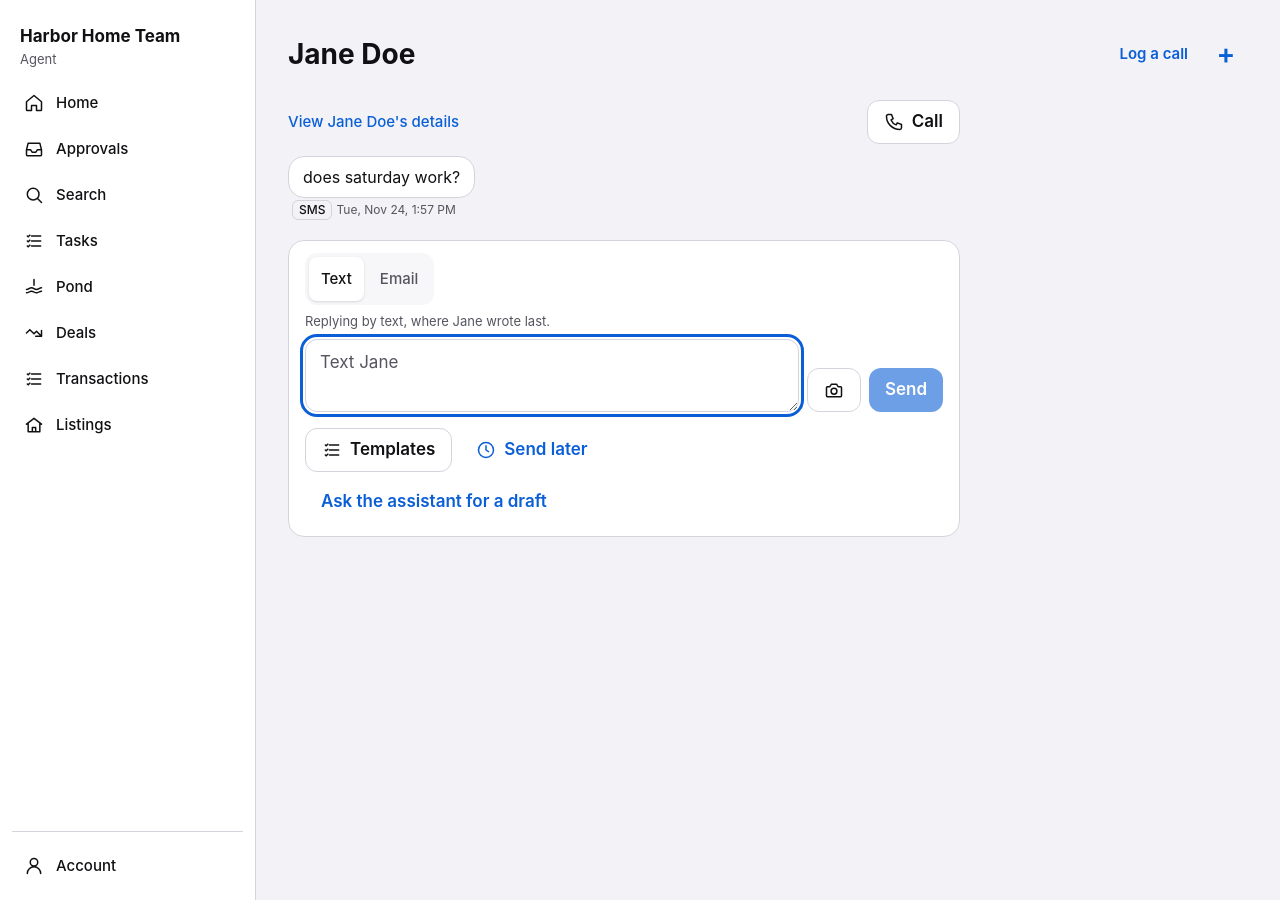
Test case: R-MMS-9 segment counter › R-MMS-9: the counter is for Text only and hidden while the box is empty
In the text box named "Text message": (552, 375) [305, 339, 799, 412], type "Hi"
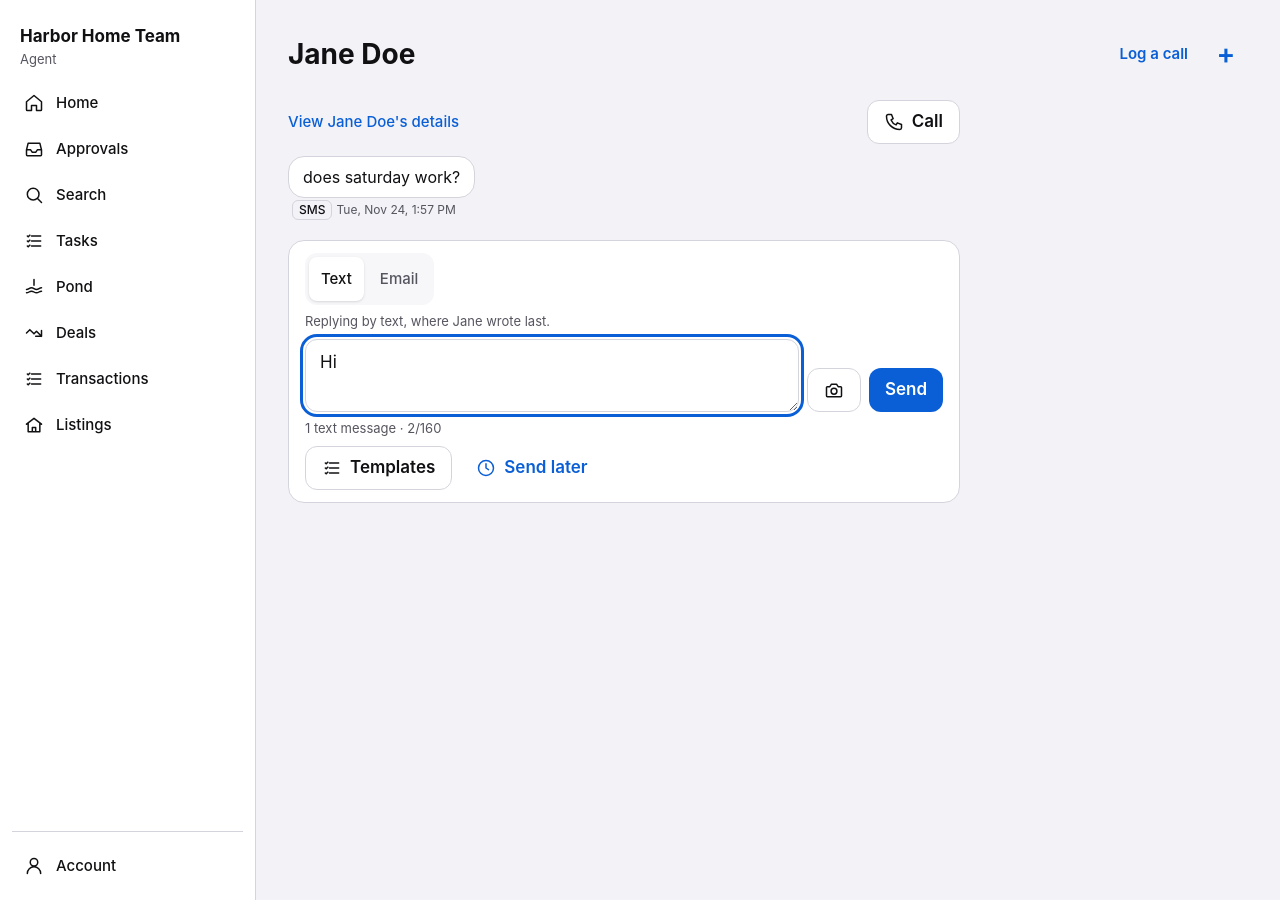
Now the text "1 text message · 2/160" is shown, box [305, 420, 441, 436]
Click the radio button labelled "Email": (399, 279) [368, 257, 430, 301]
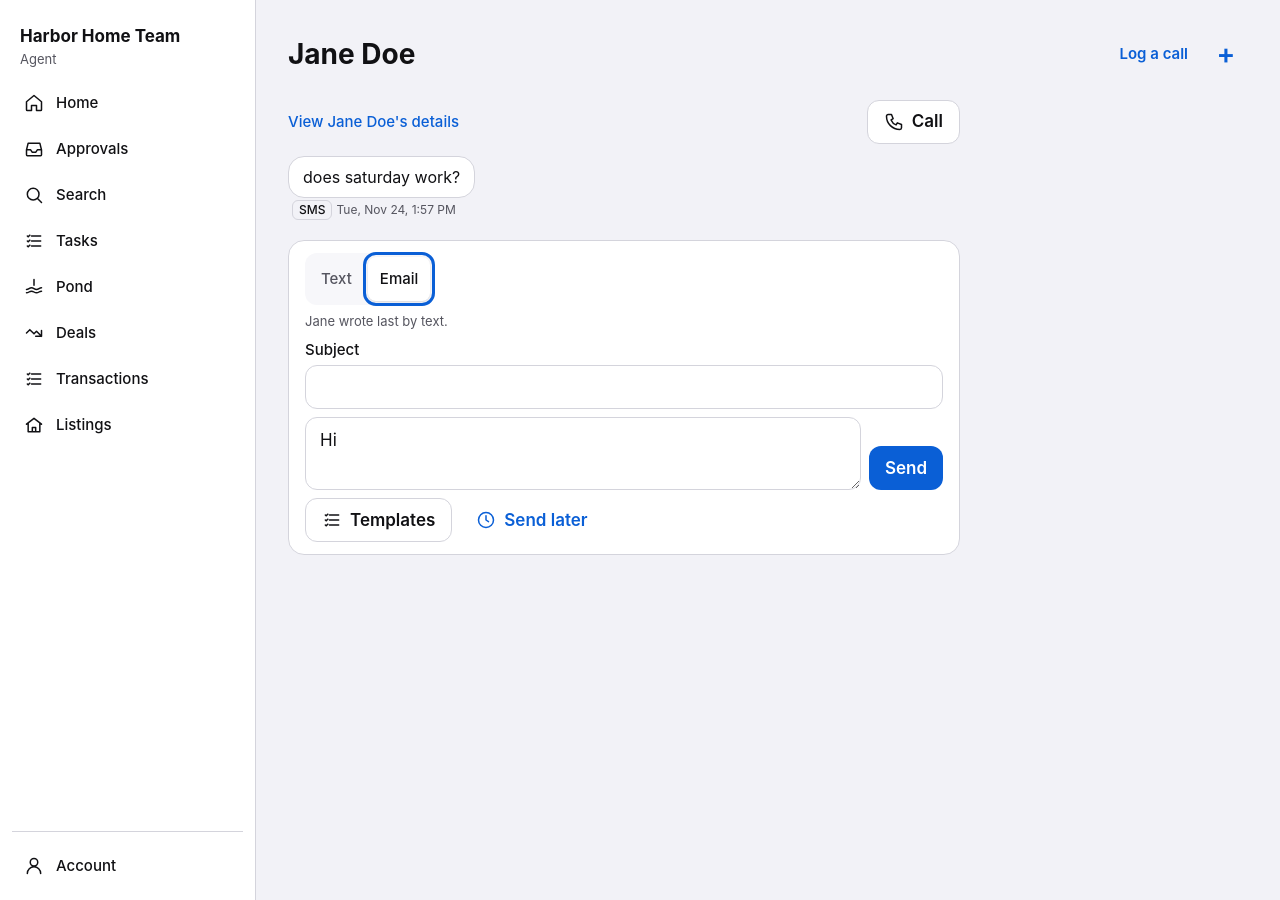
Now the element with test id "segment-counter" is gone
